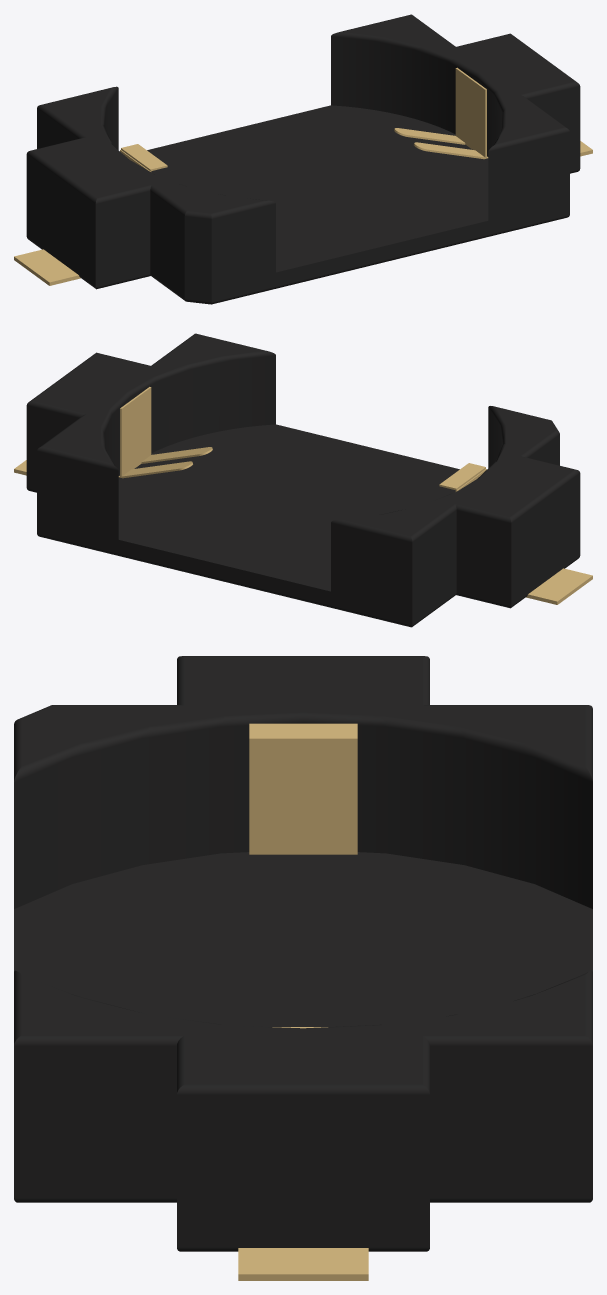
Rendered from BatteryHolder_Keystone_1060_1x2032.glb.
3 views of the same model, one above another, from view 1: azimuth 30°, elevation 25°; view 2: azimuth 150°, elevation 25°; view 3: azimuth 270°, elevation 25° (orthographic). The views are drawn at different scales.
Visible parts, largest first — view 1: =>[0:1:1:3]; view 2: =>[0:1:1:3]; view 3: =>[0:1:1:3].
Boxes of the visible parts, x1,y1,x2,y2 form: =>[0:1:1:3]: (14,14,592,304); =>[0:1:1:3]: (14,333,592,627); =>[0:1:1:3]: (14,656,592,1280).
Bounding box in the file's own units: 0.0319 × 0.00508 × 0.016.
